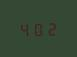four: (18, 20, 30, 37)
two: (45, 19, 57, 36)
zero: (32, 20, 44, 36)
